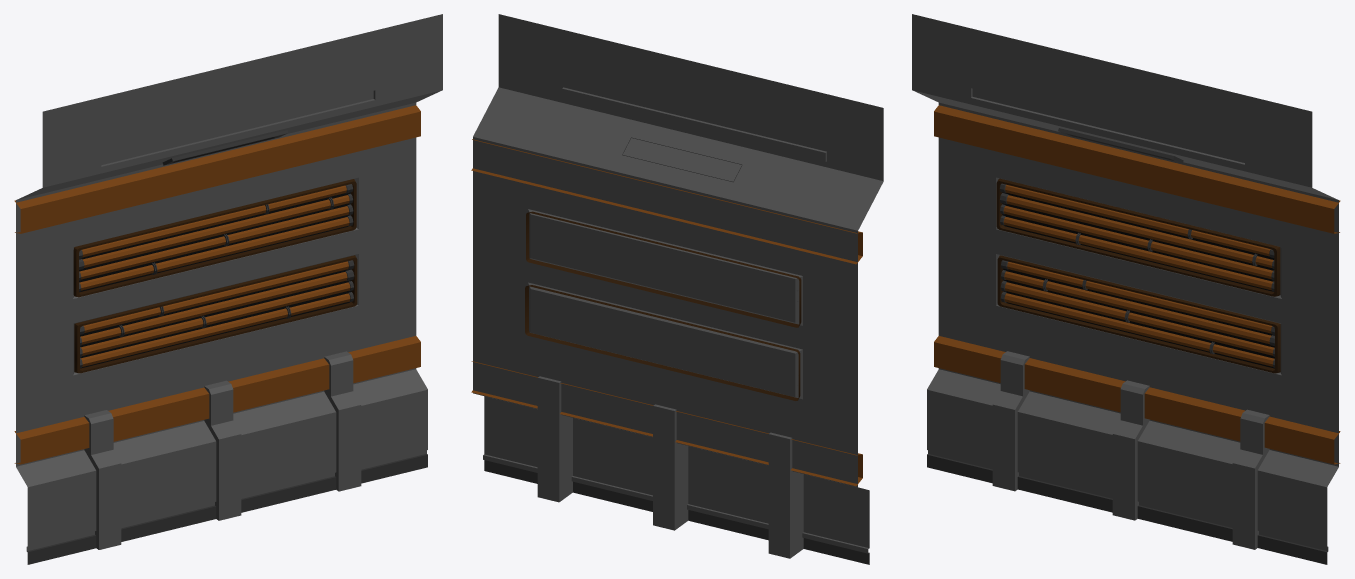
The model's file is Wall_5.obj.
3 renders of one model, left to right at view 1: azimuth 30°, elevation 25°; view 2: azimuth 150°, elevation 25°; view 3: azimuth 330°, elevation 25°, orthographic. The views are drawn at different scales.
Parts seen in each view (by area): view 1: Wall_5_Plane.113; view 2: Wall_5_Plane.113; view 3: Wall_5_Plane.113.
Part boxes in pixels (x1,y1,x2,y2): Wall_5_Plane.113: (14,14,442,564); Wall_5_Plane.113: (471,14,883,564); Wall_5_Plane.113: (912,14,1340,564).
Size of the model in its own units: 4 by 4.43 by 0.5279.
